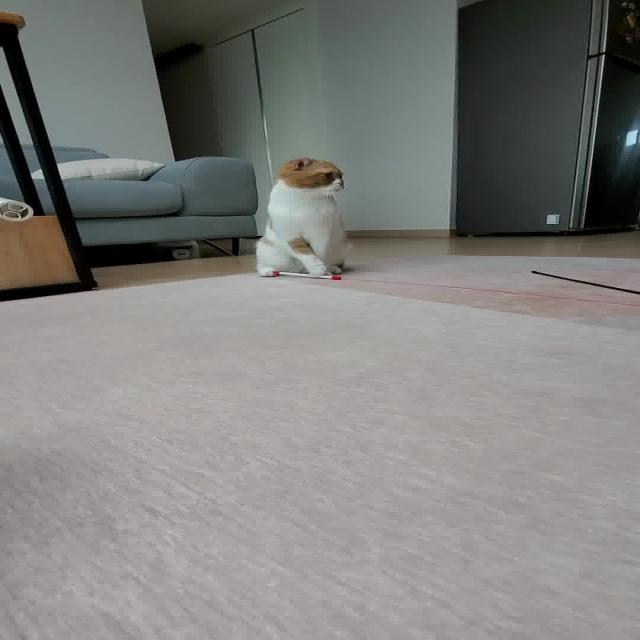cat: (228, 154, 375, 289)
